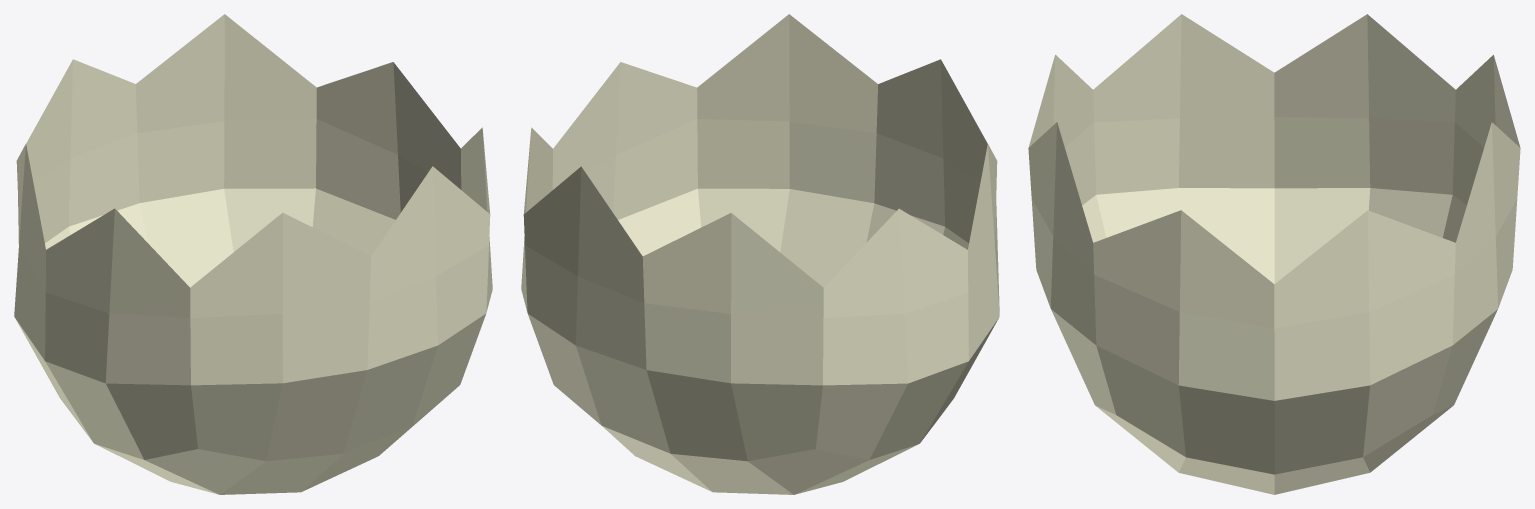
The model's file is eggshell_bottom.fbx.
3 renders of one model, left to right at view 1: azimuth 30°, elevation 25°; view 2: azimuth 150°, elevation 25°; view 3: azimuth 270°, elevation 25°, orthographic. The views are drawn at different scales.
Parts seen in each view (by area): view 1: eggshell_bottom; view 2: eggshell_bottom; view 3: eggshell_bottom.
Boxes of the visible parts, <box> form: eggshell_bottom: <box>14,14,492,494</box>; eggshell_bottom: <box>521,14,999,494</box>; eggshell_bottom: <box>1028,14,1520,494</box>.
Size of the model in its own units: 68.29 by 58.1 by 66.8.
